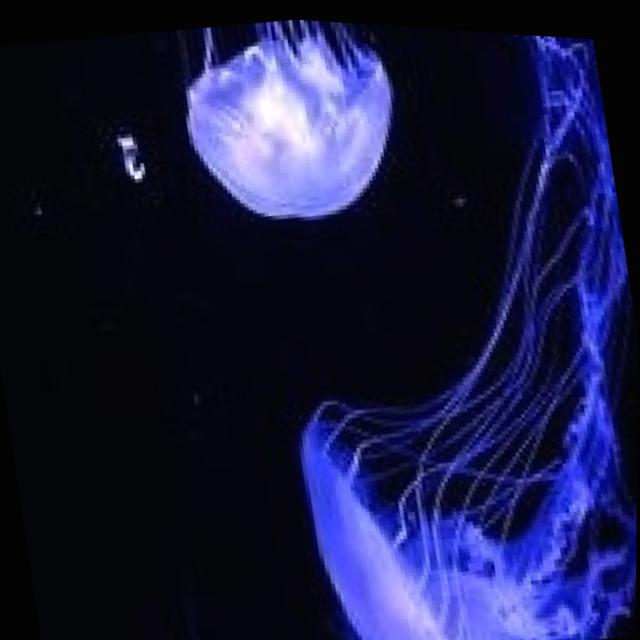Moon-jellyfish: (228, 12, 640, 640), (172, 9, 416, 238)
